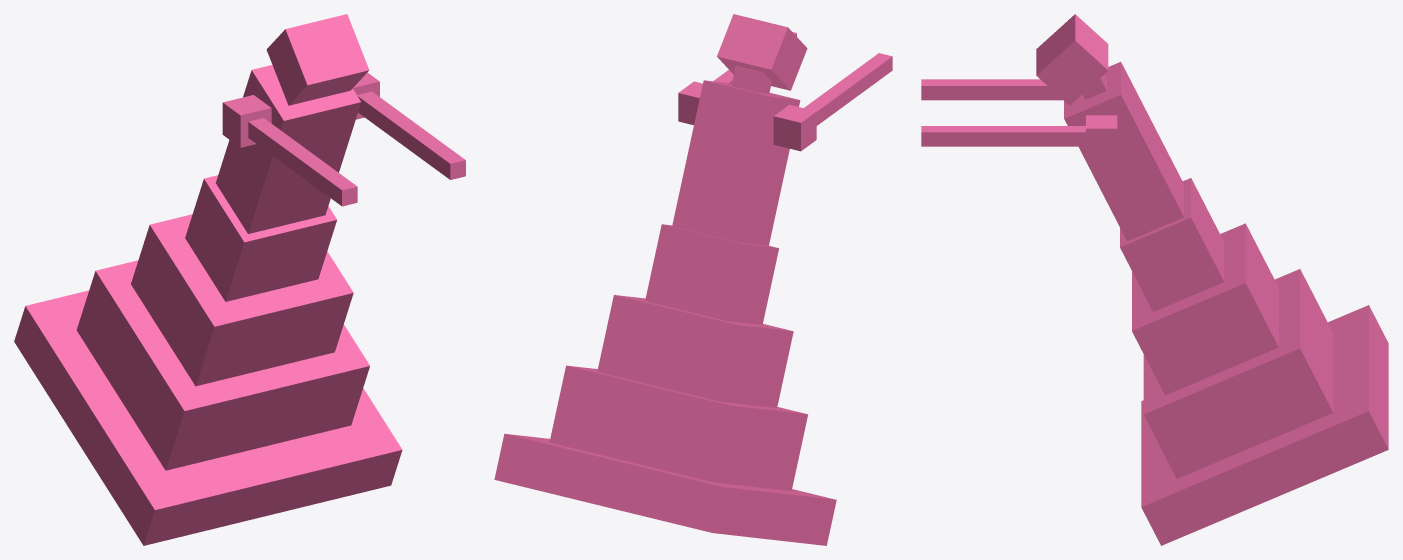
Rendered from SpectralScary01-1.fbx.
3 views of the same model, side by side, from view 1: azimuth 30°, elevation 25°; view 2: azimuth 150°, elevation 25°; view 3: azimuth 270°, elevation 25° (orthographic). The views are drawn at different scales.
Visible parts, largest first — view 1: Matrix, Matrix_1, Matrix_2; view 2: Matrix, Matrix_1, Matrix_2; view 3: Matrix, Matrix_1, Matrix_2.
Boxes of the visible parts, left/top/right/bottom form: Matrix: left=14, top=65, right=402, bottom=545; Matrix_1: left=222, top=72, right=465, bottom=206; Matrix_2: left=266, top=14, right=369, bottom=105; Matrix: left=494, top=65, right=836, bottom=545; Matrix_1: left=678, top=32, right=892, bottom=151; Matrix_2: left=717, top=14, right=807, bottom=90; Matrix: left=1064, top=62, right=1388, bottom=545; Matrix_1: left=921, top=79, right=1117, bottom=156; Matrix_2: left=1036, top=14, right=1108, bottom=105.
Bounding box in the file's own units: 160 × 327 × 298.
